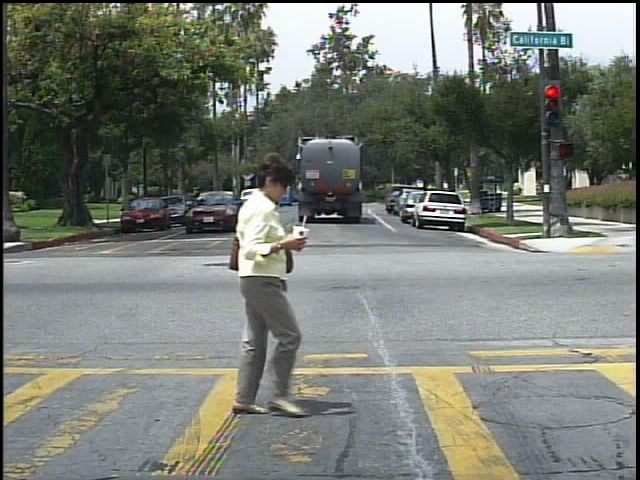person: (202, 151, 322, 423), (515, 181, 528, 200)
